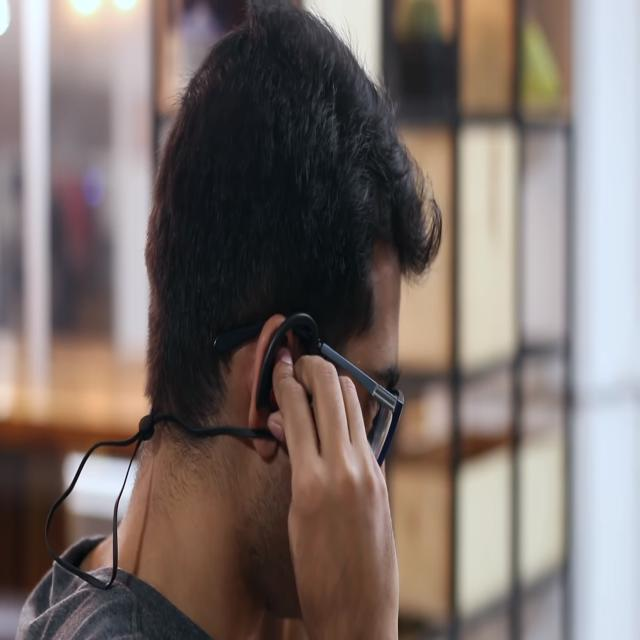Neckband: (44, 310, 324, 593)
